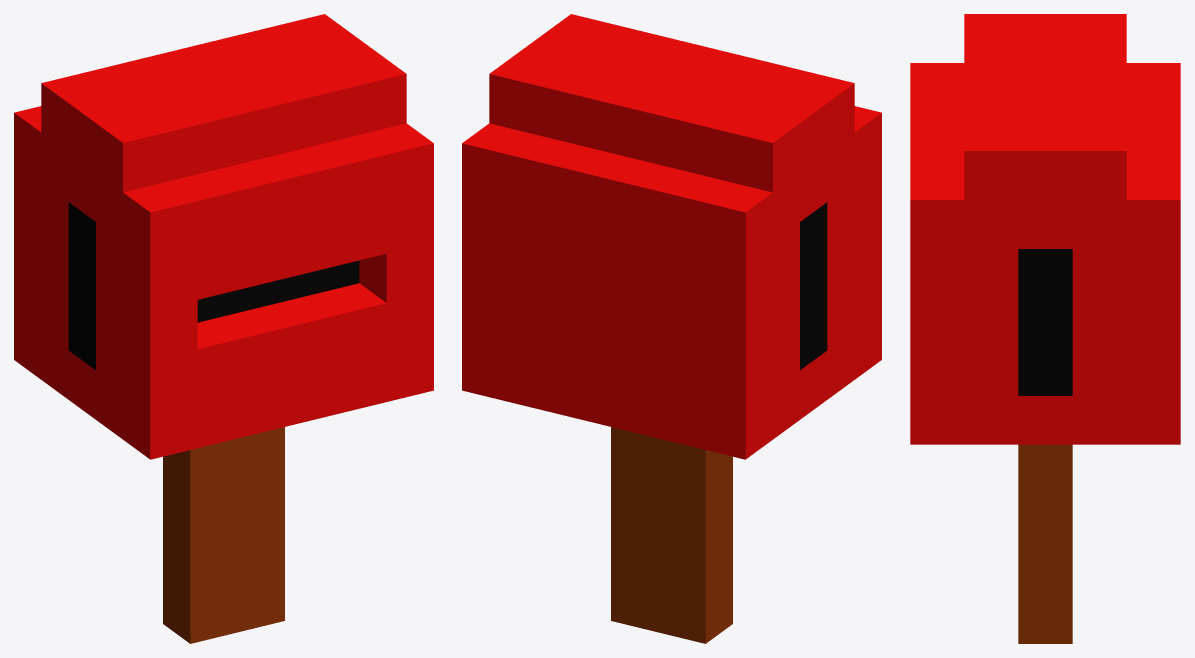
The model's file is Buzon.glb.
3 renders of one model, left to right at view 1: azimuth 30°, elevation 25°; view 2: azimuth 150°, elevation 25°; view 3: azimuth 270°, elevation 25°, orthographic.
Parts seen in each view (by area): view 1: Node1; view 2: Node1; view 3: Node1.
Part boxes in pixels (left/top/right/bottom): Node1: left=14, top=14, right=433, bottom=643; Node1: left=462, top=14, right=881, bottom=643; Node1: left=910, top=14, right=1180, bottom=643.
Bounding box in the file's own units: 0.6 × 1.1 × 0.5.
1 material, 1 textured.
